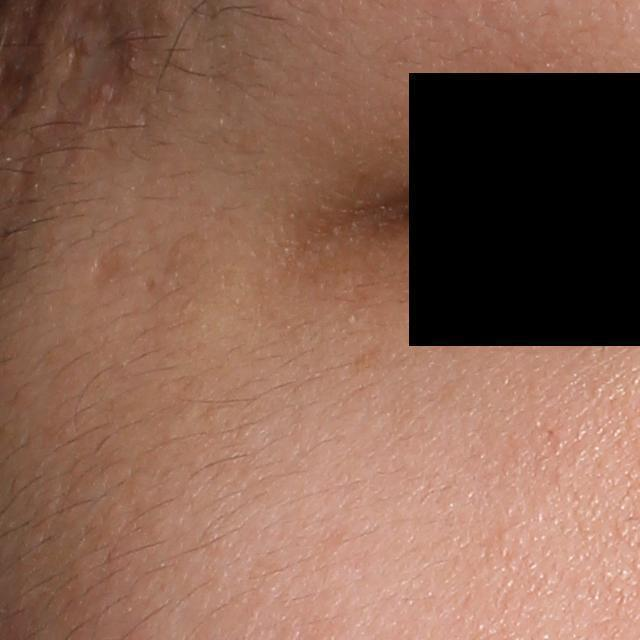atrophic_scar: (90, 244, 124, 290)
melasma: (352, 342, 387, 373)
